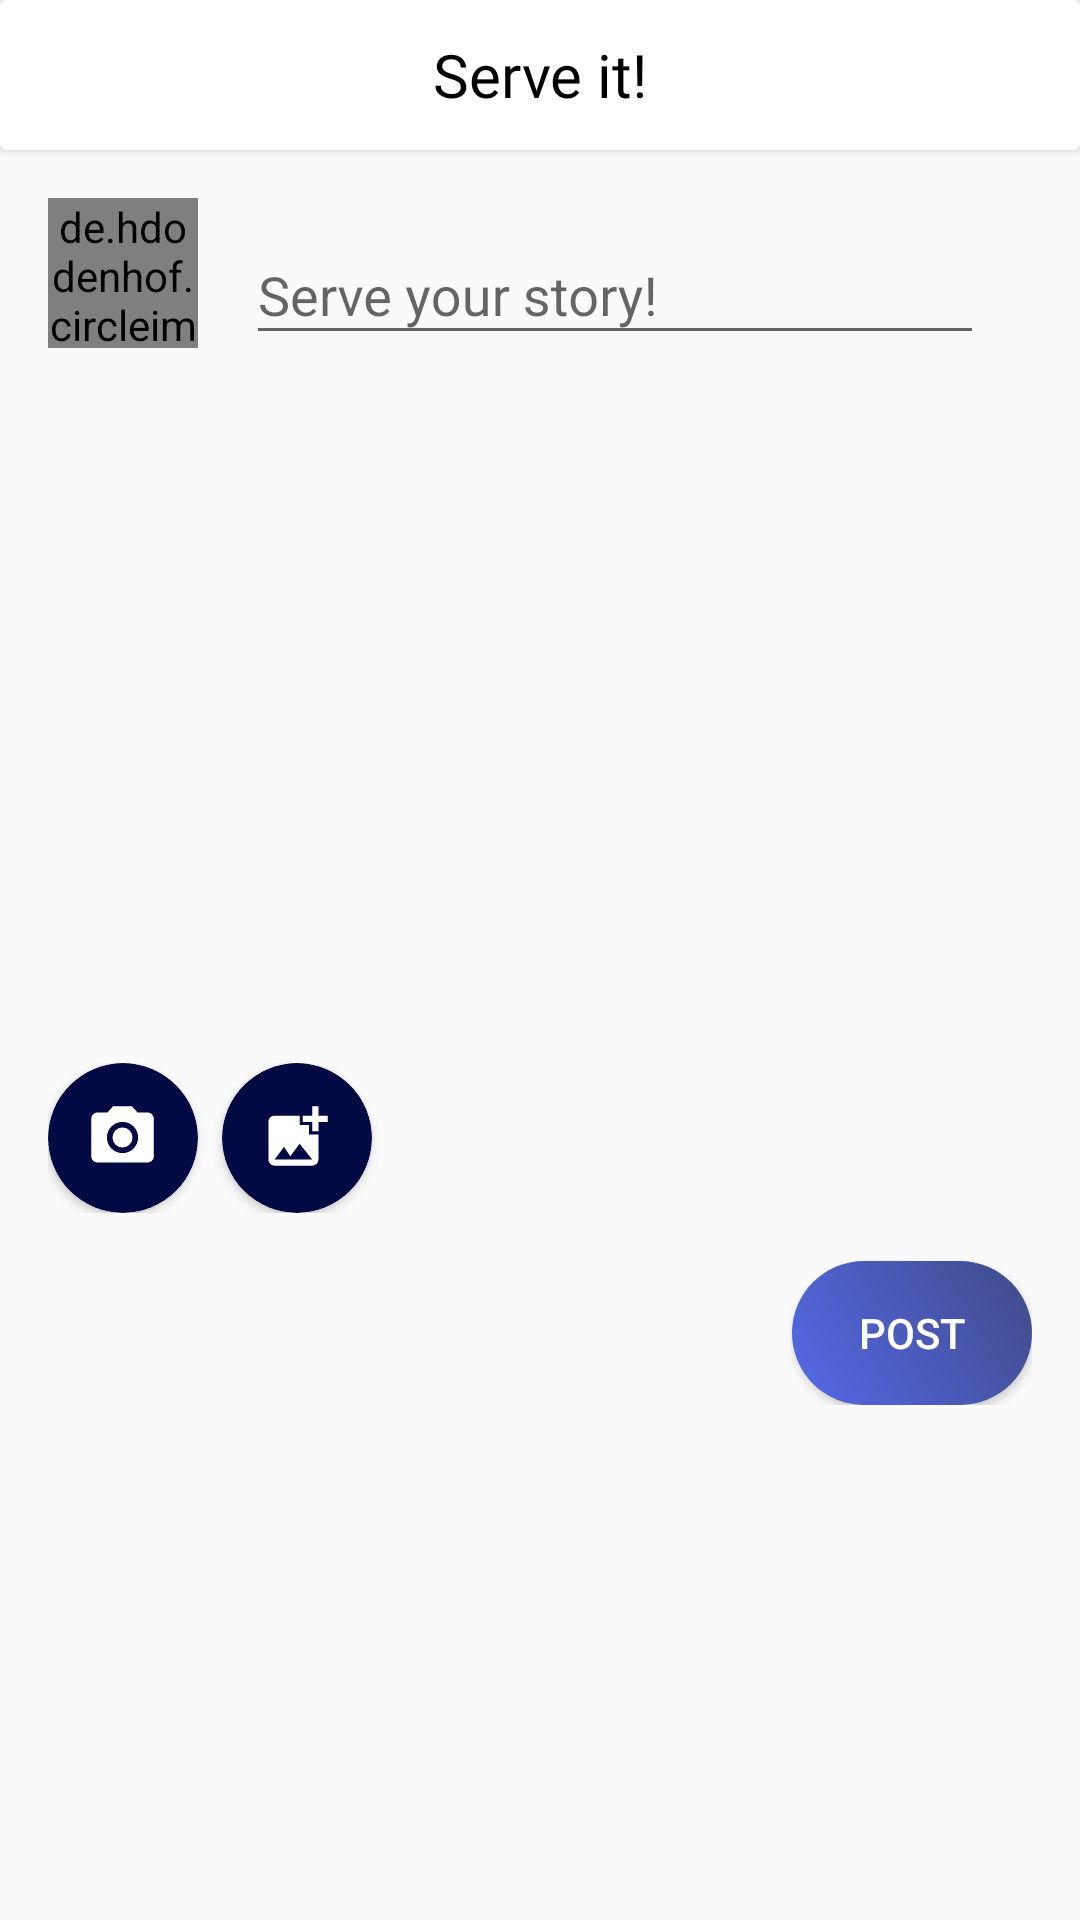

Named icons in this screenshot (1080 x 1920) and their centers, (x=x, y=y):
add photo alternate: (x=298, y=1136)
camera: (x=122, y=1134)
